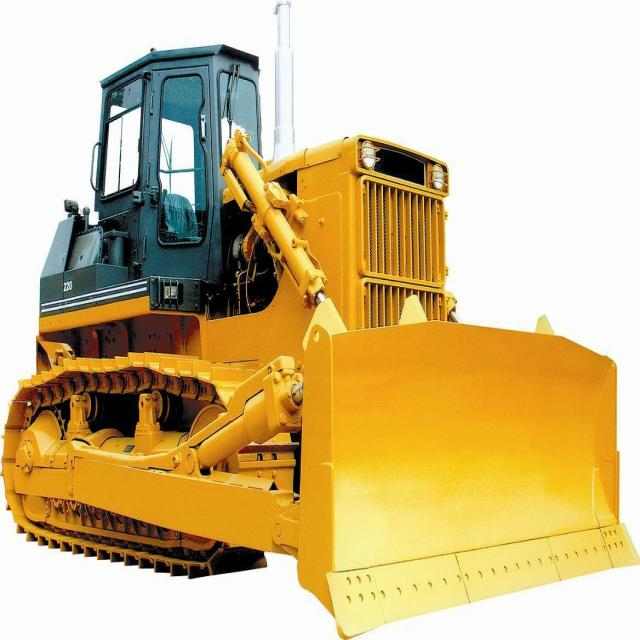Bulldozer: (14, 43, 638, 637)
